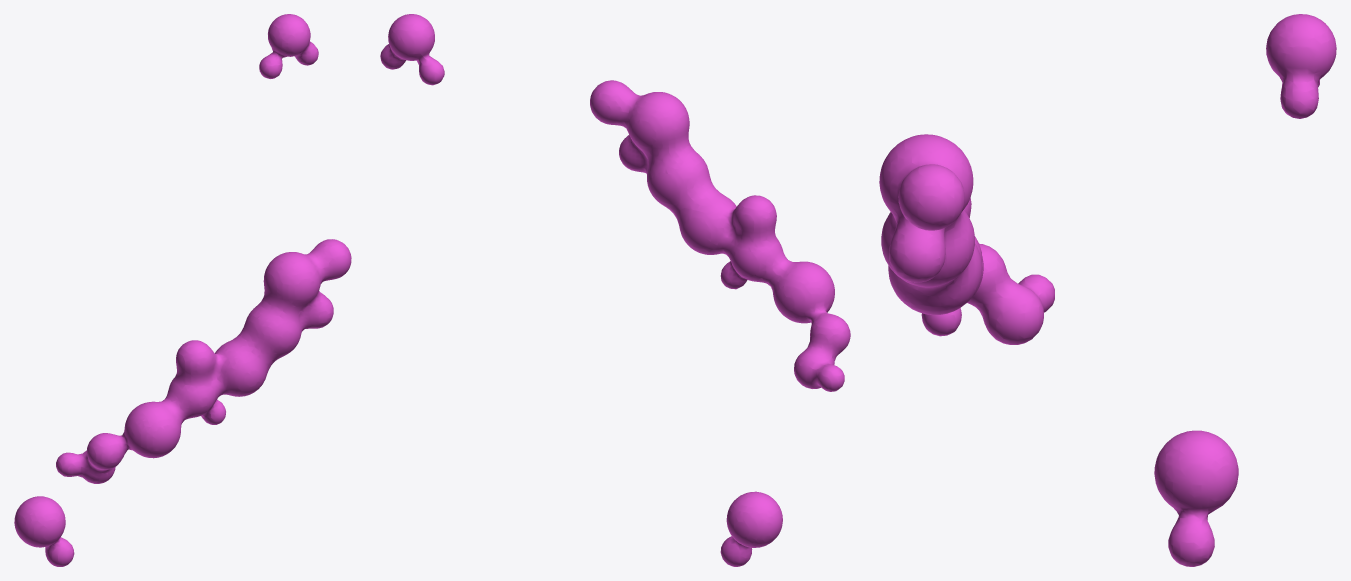
The model's file is liquid.fbx.
3 renders of one model, left to right at view 1: azimuth 30°, elevation 25°; view 2: azimuth 150°, elevation 25°; view 3: azimuth 270°, elevation 25°, orthographic. The views are drawn at different scales.
Parts seen in each view (by area): view 1: Mball.016; view 2: Mball.016; view 3: Mball.016.
Boxes of the visible parts, box(x1,y1,x2,y2) form: Mball.016: box(14, 14, 351, 566); Mball.016: box(380, 14, 850, 566); Mball.016: box(879, 14, 1336, 566).
Bounding box in the file's own units: 21.03 × 27.27 × 14.89.
